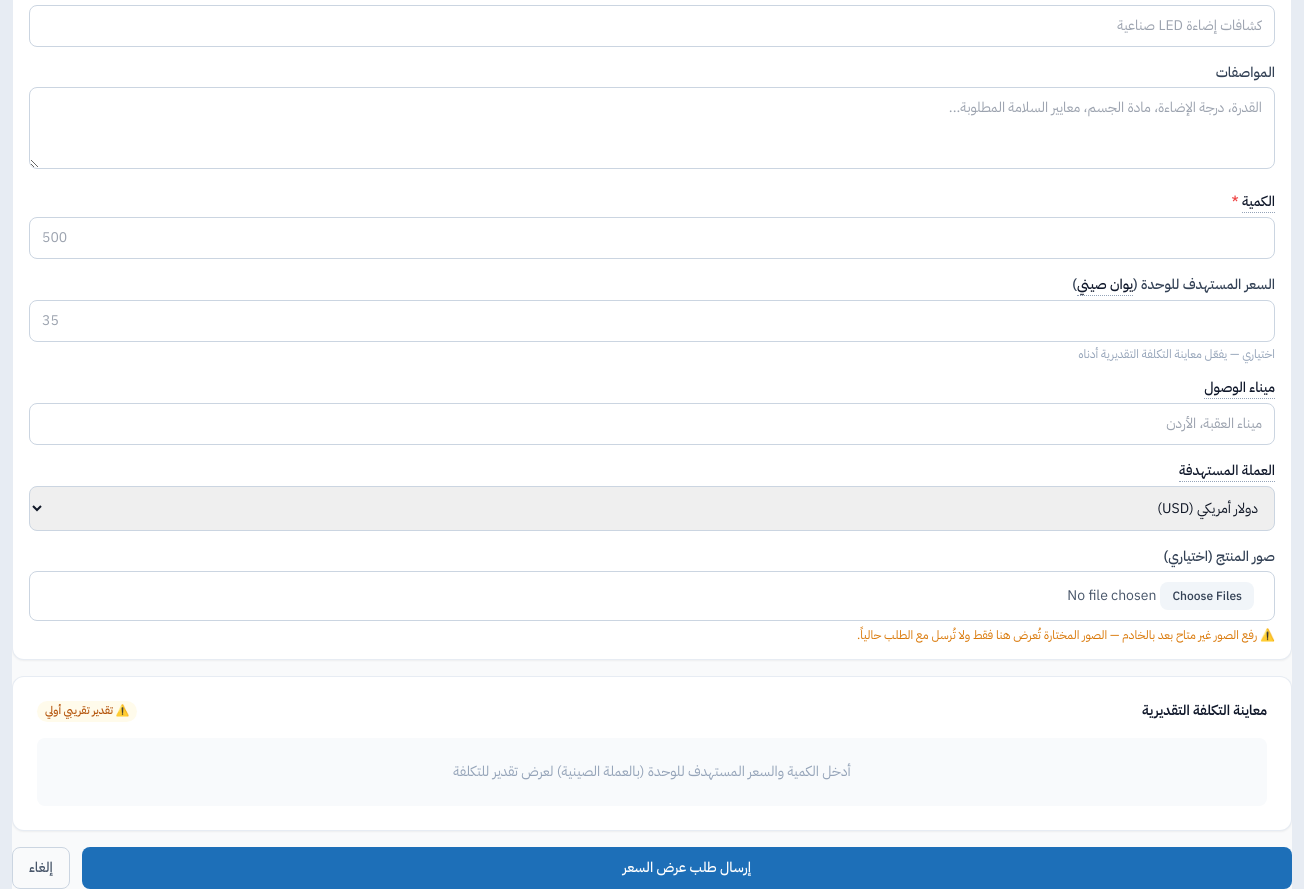
RFQCreatePageMobile › validates required fields before submitting
This screenshot has width=1304, height=889.
(page scrolled)
Click the button "إرسال طلب عرض السعر" at (687,868), box [82, 846, 1292, 888]
(page scrolled)
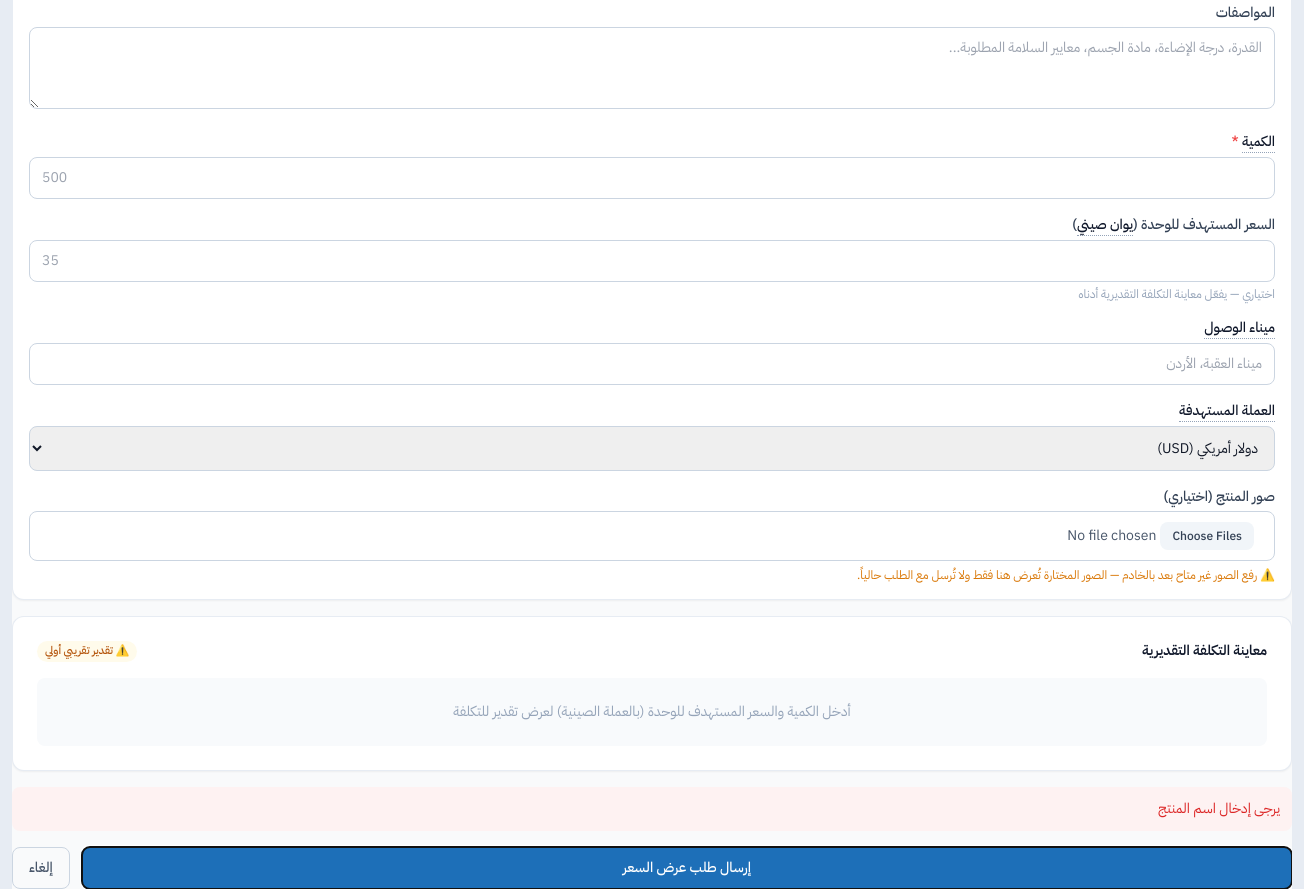
expect the text "يرجى إدخال اسم المنتج" is shown: met, box [12, 786, 1292, 830]
